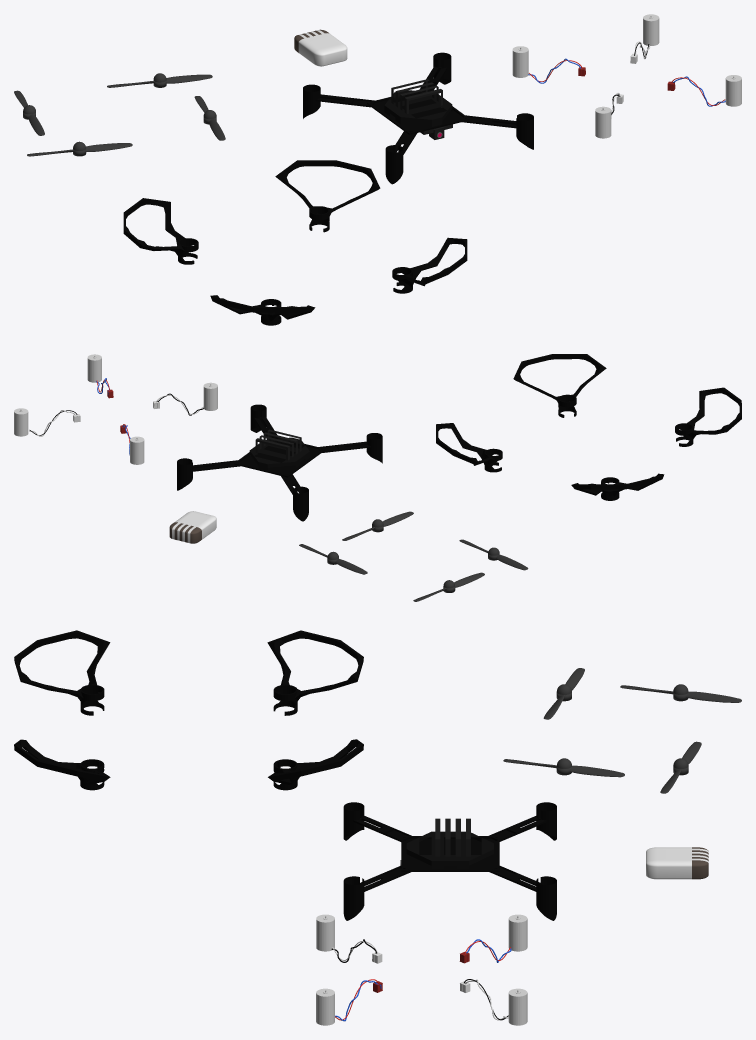
Rendered from Bir4.gltf.
3 views of the same model, one above another, from view 1: azimuth 30°, elevation 25°; view 2: azimuth 150°, elevation 25°; view 3: azimuth 270°, elevation 25° (orthographic). The views are drawn at different scales.
Parts seen in each view (by area): view 1: Body, Body1.001, Battery, Body1.003, Body1.002, Body1.004, Cylinder.008, Cylinder.001, Cylinder.002, Cylinder.003, Props.003, Props.001; view 2: Body, Body1.002, Body1.004, Battery, Body1.001, Body1.003, Cylinder.002, Cylinder.003, Cylinder.008, Cylinder.001, Props.002, Props (+2 smaller); view 3: Body, Body1.004, Body1.003, Battery, Body1.001, Body1.002, Cylinder.002, Cylinder.001, Cylinder.008, Cylinder.003, Props.002, Props.
Part boxes in pixels (<box>): Body: <box>303,52,533,184</box>; Body1.001: <box>275,160,380,232</box>; Battery: <box>294,29,347,66</box>; Body1.003: <box>123,198,198,264</box>; Body1.002: <box>392,237,467,293</box>; Body1.004: <box>210,295,315,325</box>; Cylinder.008: <box>667,75,741,106</box>; Cylinder.001: <box>512,46,585,83</box>; Cylinder.002: <box>630,14,659,63</box>; Cylinder.003: <box>595,92,623,138</box>; Props.003: <box>107,73,212,87</box>; Props.001: <box>27,141,132,156</box>; Body: <box>177,404,382,521</box>; Body1.002: <box>513,354,606,417</box>; Body1.004: <box>675,387,741,446</box>; Battery: <box>169,511,216,543</box>; Body1.001: <box>436,423,502,472</box>; Body1.003: <box>571,473,664,500</box>; Cylinder.002: <box>14,408,80,436</box>; Cylinder.003: <box>153,382,217,415</box>; Cylinder.008: <box>87,354,113,398</box>; Cylinder.001: <box>120,424,144,464</box>; Props.002: <box>413,572,484,601</box>; Props: <box>342,511,413,540</box>; Body: <box>343,802,556,920</box>; Body1.004: <box>14,630,110,715</box>; Body1.003: <box>267,630,363,715</box>; Battery: <box>646,847,708,879</box>; Body1.001: <box>268,739,363,790</box>; Body1.002: <box>14,739,110,790</box>; Cylinder.002: <box>460,979,527,1025</box>; Cylinder.001: <box>459,914,527,963</box>; Cylinder.008: <box>316,979,382,1025</box>; Cylinder.003: <box>316,914,382,963</box>; Props.002: <box>620,684,741,702</box>; Props: <box>503,758,624,777</box>.
Size of the model in its own units: 22.62 by 1.56 by 19.52.
